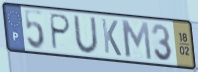3: (150, 23, 174, 63)
5: (23, 7, 46, 52)
K: (100, 17, 123, 58)
M: (119, 18, 154, 62)
P: (50, 12, 73, 52)
U: (72, 15, 101, 56)
